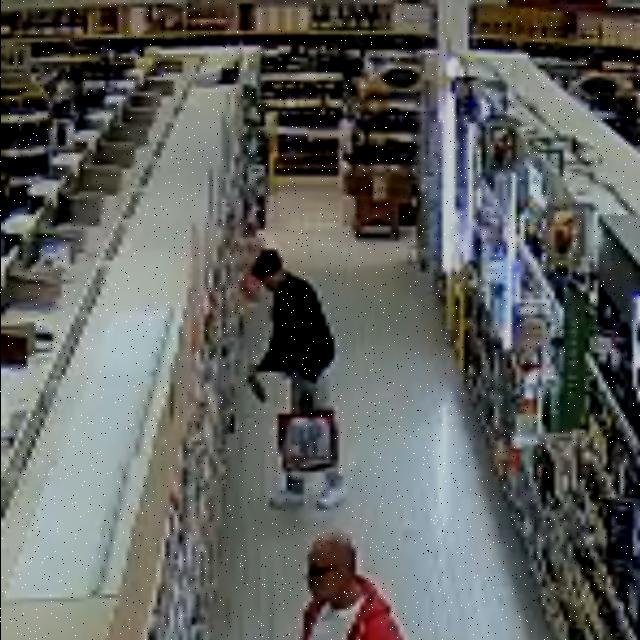article: (247, 376, 267, 405)
bags: (278, 407, 338, 472)
hands: (302, 378, 317, 397), (245, 364, 257, 379)
person: (251, 249, 335, 412), (302, 533, 402, 639)
